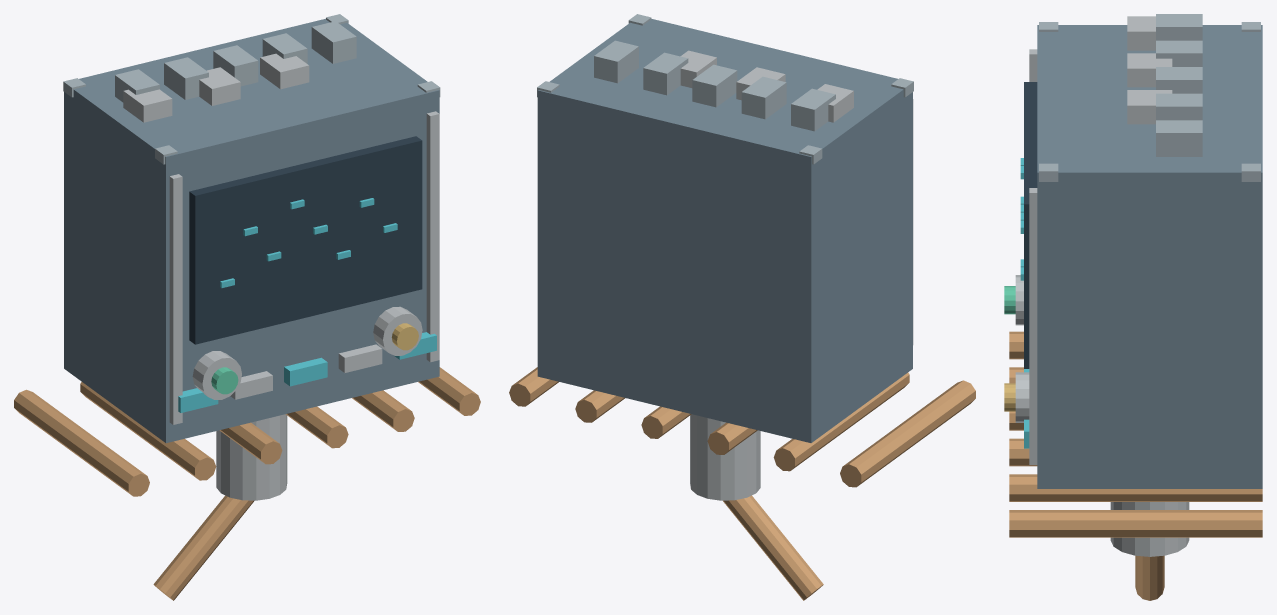
File: 27_L76_PrecisionCurrentTransducer.glb
The picture shows the model from 3 angles, left to right: view 1: azimuth 30°, elevation 25°; view 2: azimuth 150°, elevation 25°; view 3: azimuth 270°, elevation 25°; orthographic projection. The views are drawn at different scales.
Parts seen in each view (by area): view 1: PrecisionCurrentTransducer_Node_0000, PrecisionCurrentTransducer_Node_0007, PrecisionCurrentTransducer_Node_0034, PrecisionCurrentTransducer_Node_0036, PrecisionCurrentTransducer_Node_0005, PrecisionCurrentTransducer_Node_0006, PrecisionCurrentTransducer_Node_0035, PrecisionCurrentTransducer_Node_0037, PrecisionCurrentTransducer_Node_0028, PrecisionCurrentTransducer_Node_0041, PrecisionCurrentTransducer_Node_0023, PrecisionCurrentTransducer_Node_0039 (+14 smaller); view 2: PrecisionCurrentTransducer_Node_0000, PrecisionCurrentTransducer_Node_0034, PrecisionCurrentTransducer_Node_0036, PrecisionCurrentTransducer_Node_0035, PrecisionCurrentTransducer_Node_0037, PrecisionCurrentTransducer_Node_0025, PrecisionCurrentTransducer_Node_0026, PrecisionCurrentTransducer_Node_0028, PrecisionCurrentTransducer_Node_0027, PrecisionCurrentTransducer_Node_0024, PrecisionCurrentTransducer_Node_0041, PrecisionCurrentTransducer_Node_0040 (+4 smaller); view 3: PrecisionCurrentTransducer_Node_0000, PrecisionCurrentTransducer_Node_0041, PrecisionCurrentTransducer_Node_0040, PrecisionCurrentTransducer_Node_0007, PrecisionCurrentTransducer_Node_0006, PrecisionCurrentTransducer_Node_0034, PrecisionCurrentTransducer_Node_0028, PrecisionCurrentTransducer_Node_0027, PrecisionCurrentTransducer_Node_0024, PrecisionCurrentTransducer_Node_0035, PrecisionCurrentTransducer_Node_0026, PrecisionCurrentTransducer_Node_0022 (+9 smaller).
Part boxes in pixels (bbox=[...]): PrecisionCurrentTransducer_Node_0000: bbox=[64, 18, 439, 443]; PrecisionCurrentTransducer_Node_0007: bbox=[189, 136, 422, 344]; PrecisionCurrentTransducer_Node_0034: bbox=[216, 414, 287, 500]; PrecisionCurrentTransducer_Node_0036: bbox=[14, 389, 149, 496]; PrecisionCurrentTransducer_Node_0005: bbox=[169, 174, 182, 424]; PrecisionCurrentTransducer_Node_0006: bbox=[426, 111, 439, 362]; PrecisionCurrentTransducer_Node_0035: bbox=[153, 495, 254, 600]; PrecisionCurrentTransducer_Node_0037: bbox=[80, 382, 216, 480]; PrecisionCurrentTransducer_Node_0028: bbox=[311, 21, 356, 63]; PrecisionCurrentTransducer_Node_0041: bbox=[418, 367, 480, 415]; PrecisionCurrentTransducer_Node_0023: bbox=[260, 53, 309, 89]; PrecisionCurrentTransducer_Node_0039: bbox=[285, 406, 348, 448]; PrecisionCurrentTransducer_Node_0000: bbox=[537, 18, 912, 442]; PrecisionCurrentTransducer_Node_0034: bbox=[690, 414, 760, 500]; PrecisionCurrentTransducer_Node_0036: bbox=[840, 380, 975, 487]; PrecisionCurrentTransducer_Node_0035: bbox=[723, 495, 823, 600]; PrecisionCurrentTransducer_Node_0037: bbox=[773, 372, 909, 471]; PrecisionCurrentTransducer_Node_0025: bbox=[741, 76, 786, 119]; PrecisionCurrentTransducer_Node_0026: bbox=[692, 64, 737, 107]; PrecisionCurrentTransducer_Node_0028: bbox=[594, 40, 638, 83]; PrecisionCurrentTransducer_Node_0027: bbox=[643, 52, 688, 95]; PrecisionCurrentTransducer_Node_0024: bbox=[791, 88, 835, 131]; PrecisionCurrentTransducer_Node_0041: bbox=[509, 367, 558, 406]; PrecisionCurrentTransducer_Node_0040: bbox=[575, 390, 625, 422]; PrecisionCurrentTransducer_Node_0000: bbox=[1037, 25, 1262, 488]; PrecisionCurrentTransducer_Node_0041: bbox=[1009, 510, 1262, 537]; PrecisionCurrentTransducer_Node_0040: bbox=[1009, 474, 1262, 501]; PrecisionCurrentTransducer_Node_0007: bbox=[1024, 82, 1037, 368]; PrecisionCurrentTransducer_Node_0006: bbox=[1029, 188, 1037, 464]; PrecisionCurrentTransducer_Node_0034: bbox=[1110, 502, 1189, 556]; PrecisionCurrentTransducer_Node_0028: bbox=[1156, 120, 1202, 156]; PrecisionCurrentTransducer_Node_0027: bbox=[1156, 93, 1202, 120]; PrecisionCurrentTransducer_Node_0024: bbox=[1156, 14, 1202, 40]; PrecisionCurrentTransducer_Node_0035: bbox=[1135, 555, 1164, 600]; PrecisionCurrentTransducer_Node_0026: bbox=[1156, 67, 1202, 93]; PrecisionCurrentTransducer_Node_0022: bbox=[1127, 53, 1172, 87].
Bounding box in the file's own units: 0.7985 × 1.12 × 0.4585.
